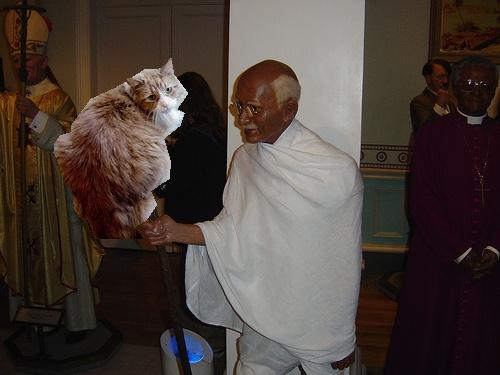tampered: (54, 59, 188, 239)
